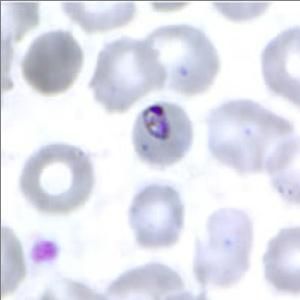Infected: (133, 101, 192, 164)
Uninfected: (206, 98, 292, 172), (87, 38, 165, 111), (20, 142, 95, 213), (152, 22, 220, 96), (193, 206, 251, 283), (21, 30, 84, 95), (128, 181, 185, 246), (261, 26, 300, 105), (263, 227, 300, 290)
